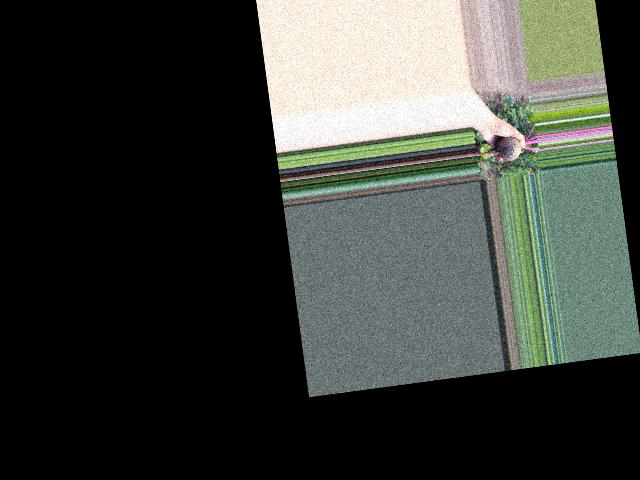beet: (472, 123, 541, 174)
